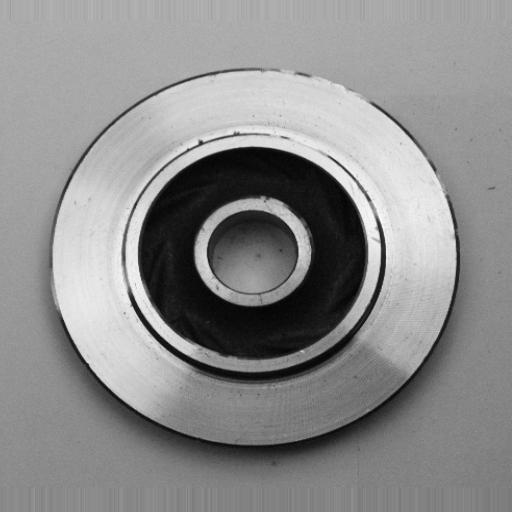crack: (188, 133, 218, 159)
scratch: (272, 54, 379, 115), (232, 122, 345, 171)
unpolished_casting: (47, 66, 464, 454)
